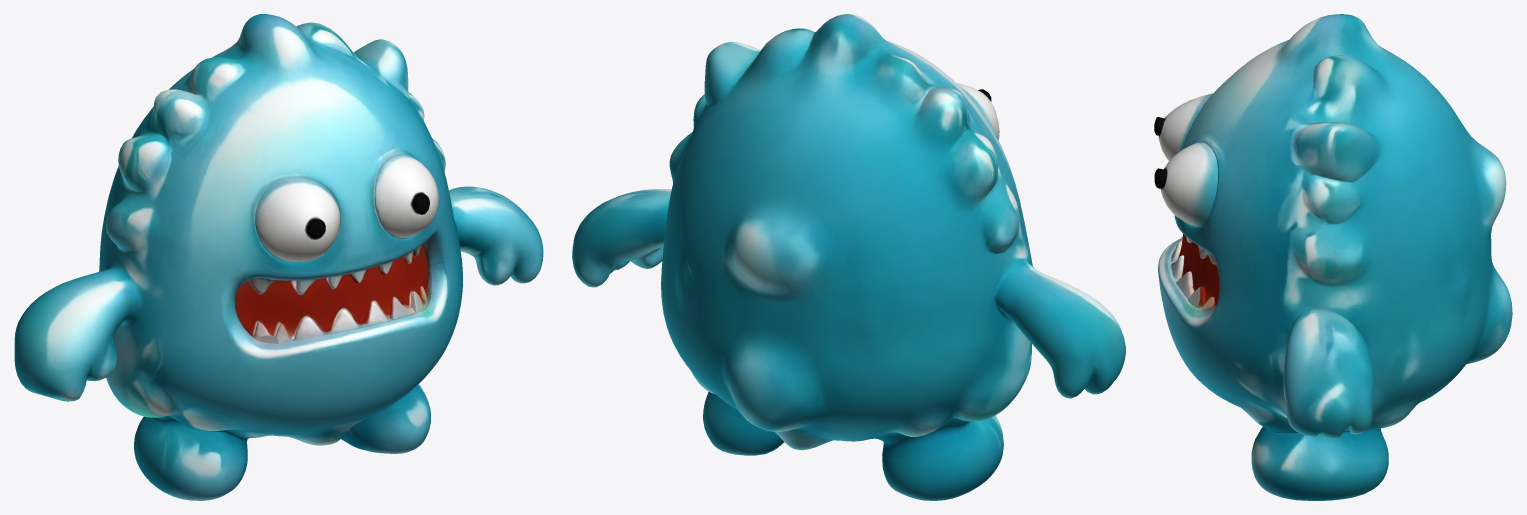
Rendered from m2IceSlime.glb.
3 renders of one model, left to right at view 1: azimuth 30°, elevation 25°; view 2: azimuth 150°, elevation 25°; view 3: azimuth 270°, elevation 25°, orthographic. The views are drawn at different scales.
Visible parts, largest first — view 1: model; view 2: model; view 3: model.
Part boxes in pixels (x1=…): model: x1=14, y1=14, x2=543, y2=500; model: x1=572, y1=14, x2=1125, y2=500; model: x1=1154, y1=14, x2=1512, y2=500.
Size of the model in its own units: 1.9 by 1.52 by 1.16.
Materials: 1 (1 with a texture image).
